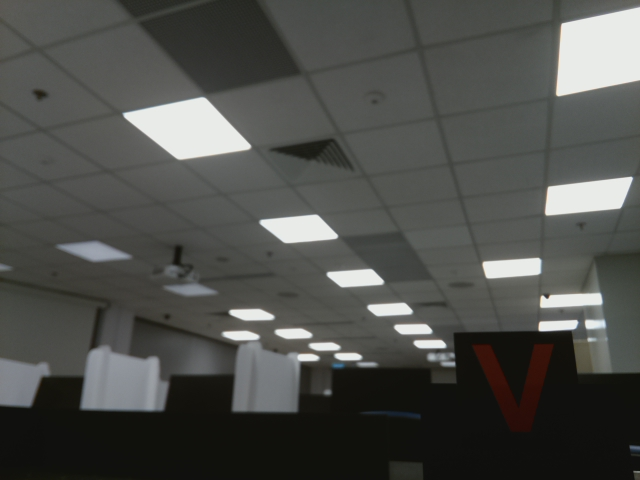v: (464, 346, 560, 438)
